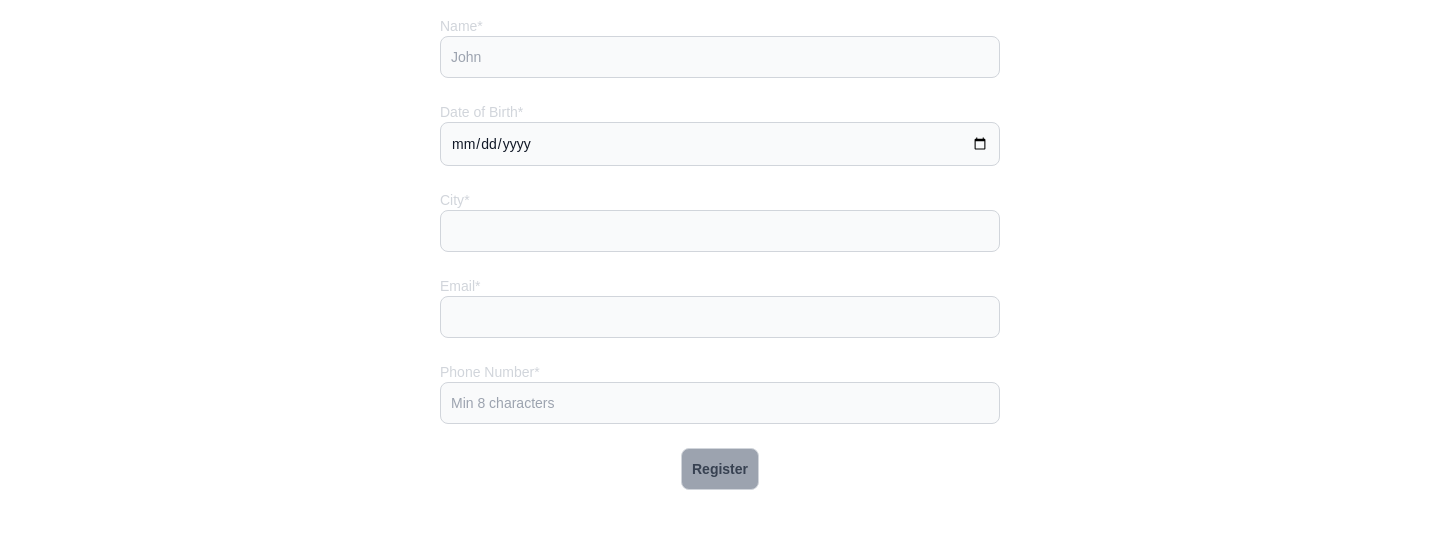
Test: ContactPage › habilita el botón cuando todos los campos están completos y muestra mensaje al enviar
Type "Juan" into the field labelled "Name*" at (720, 57), box left=440, top=36, right=1000, bottom=78
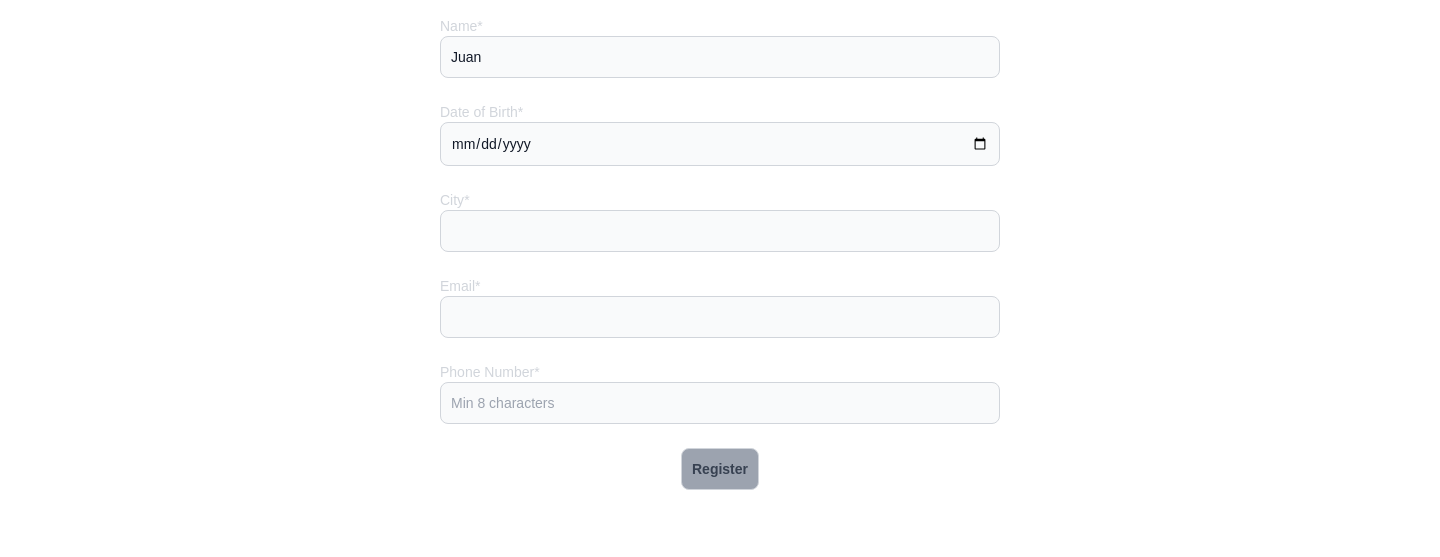
Type "2000-01-01" into the date field labelled "Date of Birth*" at (720, 144), box left=440, top=122, right=1000, bottom=166
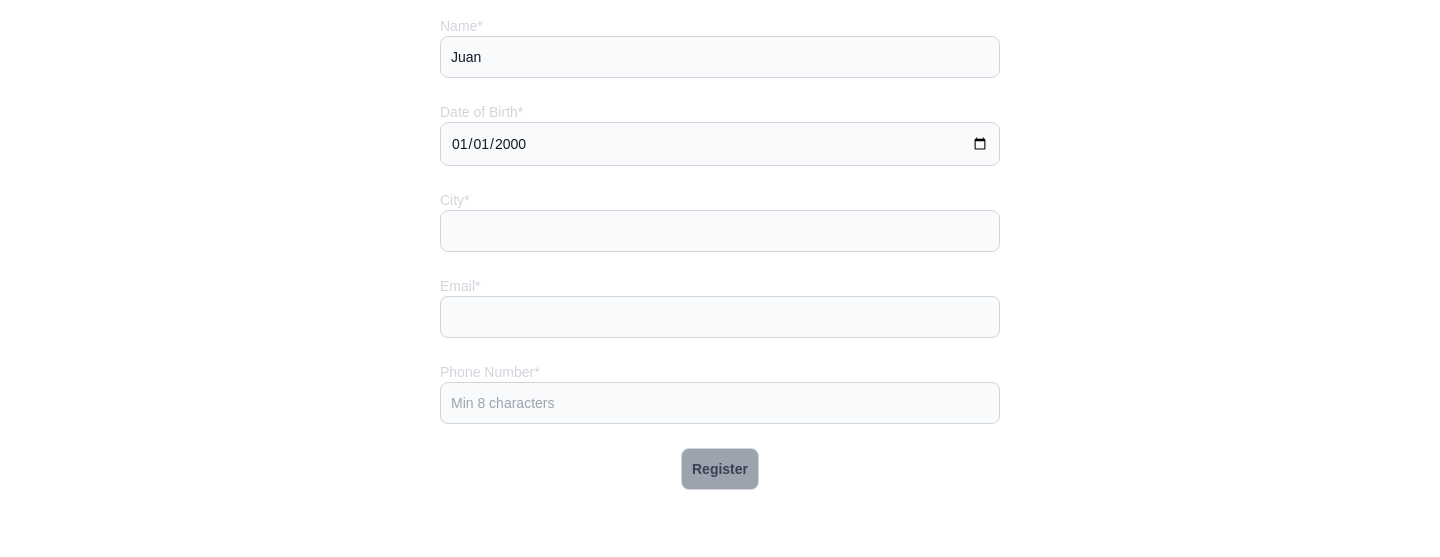
Type "Madrid" into the field labelled "City*" at (720, 231), box left=440, top=210, right=1000, bottom=252
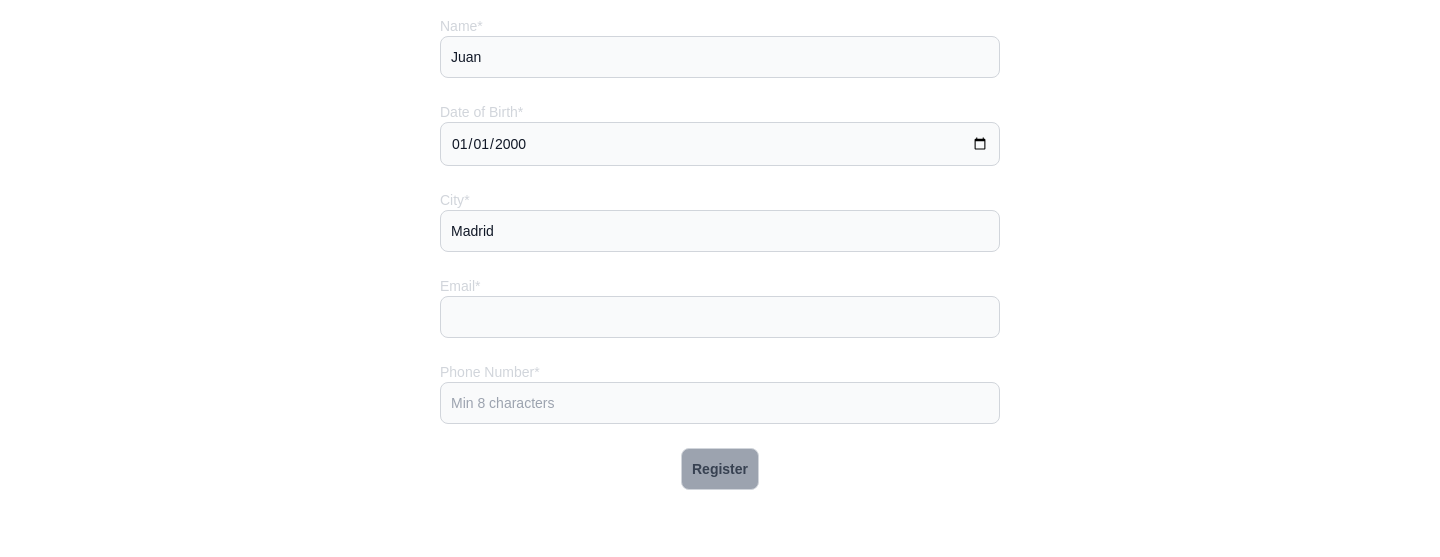
Type "juan@mail.com" into the field labelled "Email*" at (720, 317), box left=440, top=296, right=1000, bottom=338
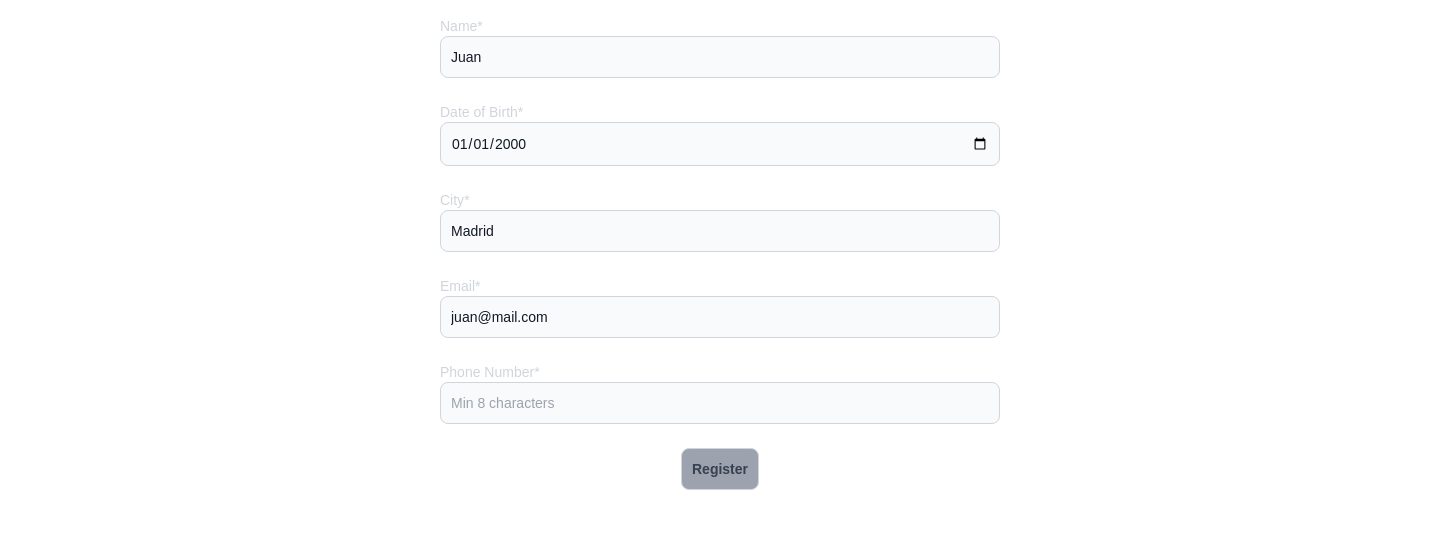
Type "12345678" into the field labelled "Phone Number*" at (720, 403), box left=440, top=382, right=1000, bottom=424
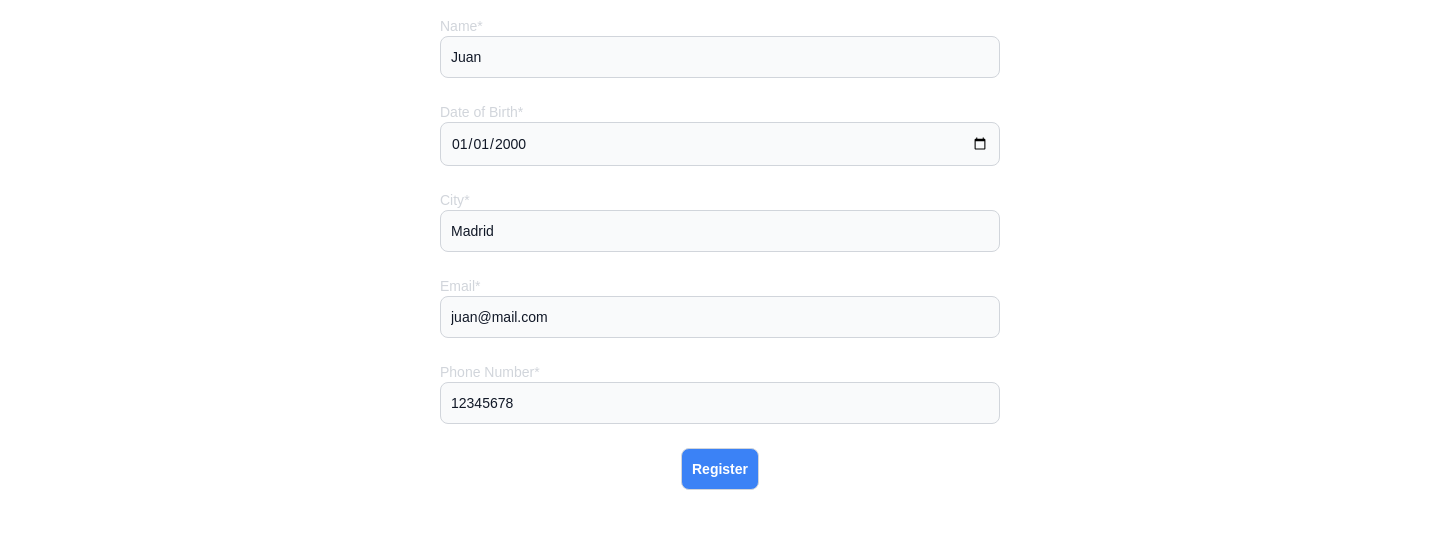
Check: the button showing "Register" is enabled
Click the button showing "Register" at (720, 469), box left=681, top=448, right=759, bottom=490
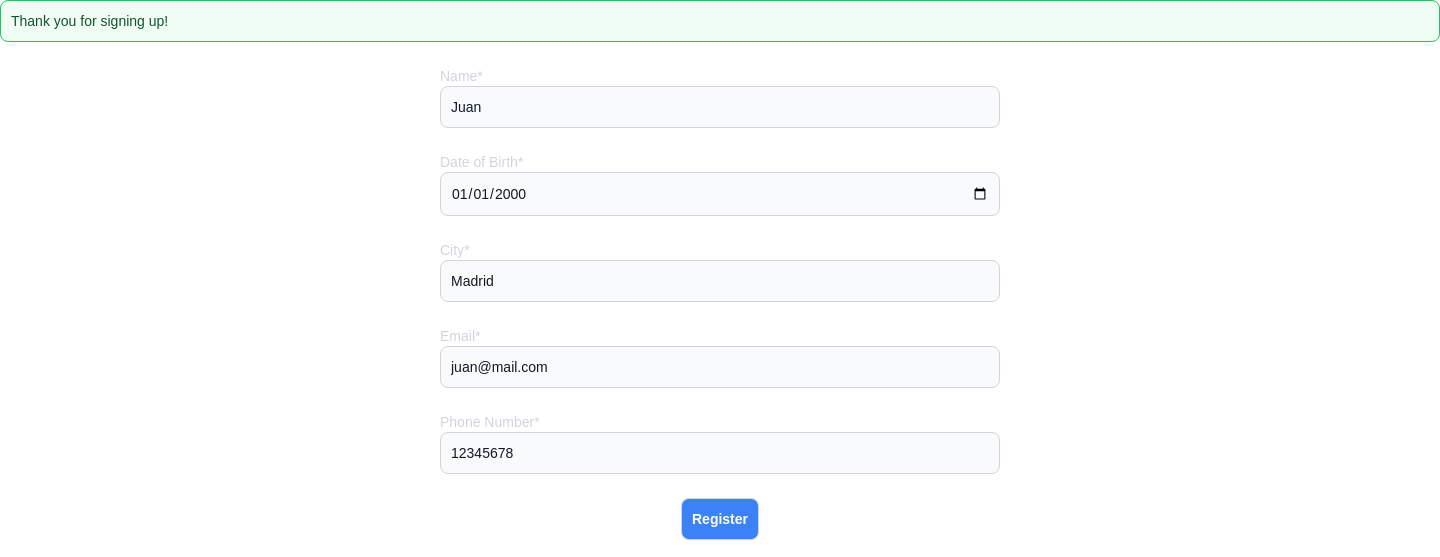
Check: the text "Thank you for signing up!" is shown, box left=0, top=0, right=1439, bottom=42
